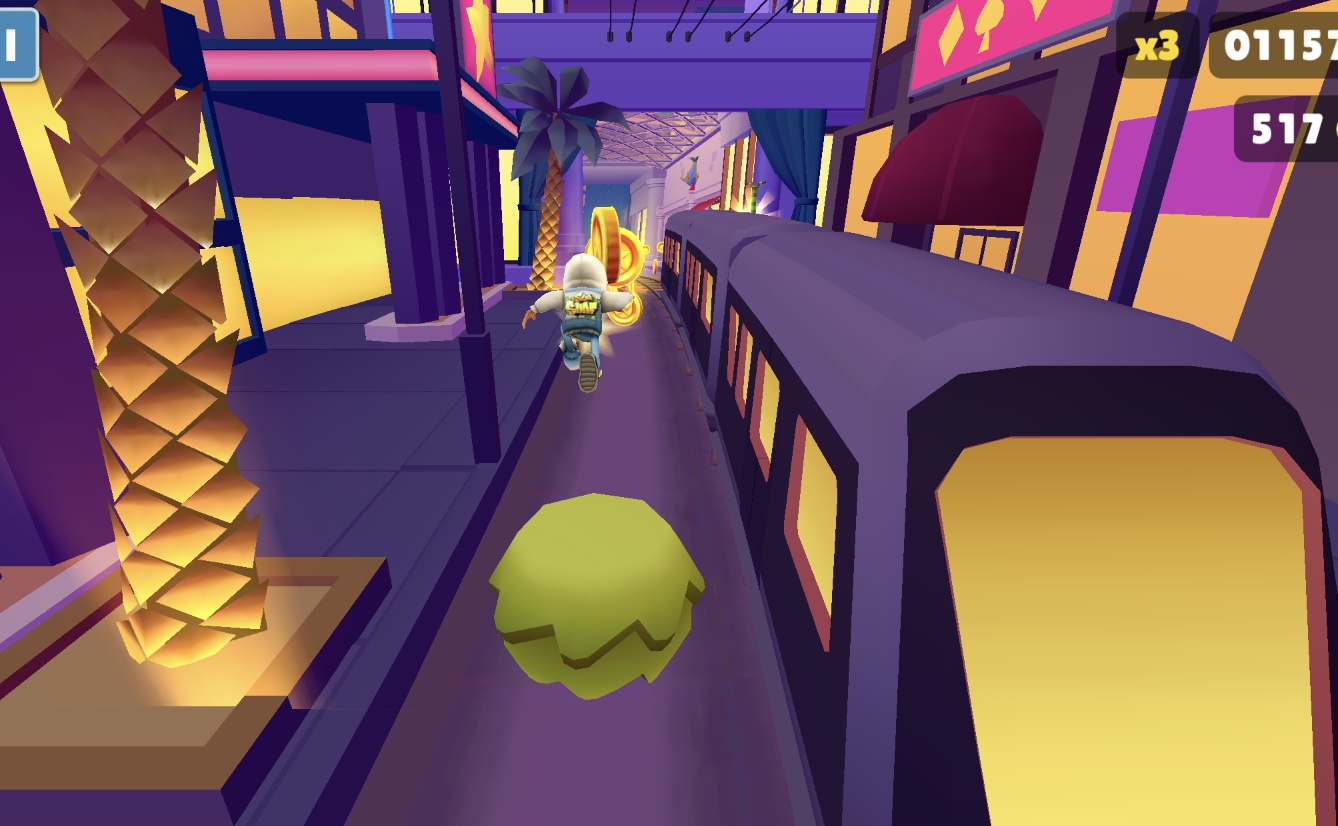bush: (489, 494, 706, 701)
train: (657, 210, 1338, 826)
